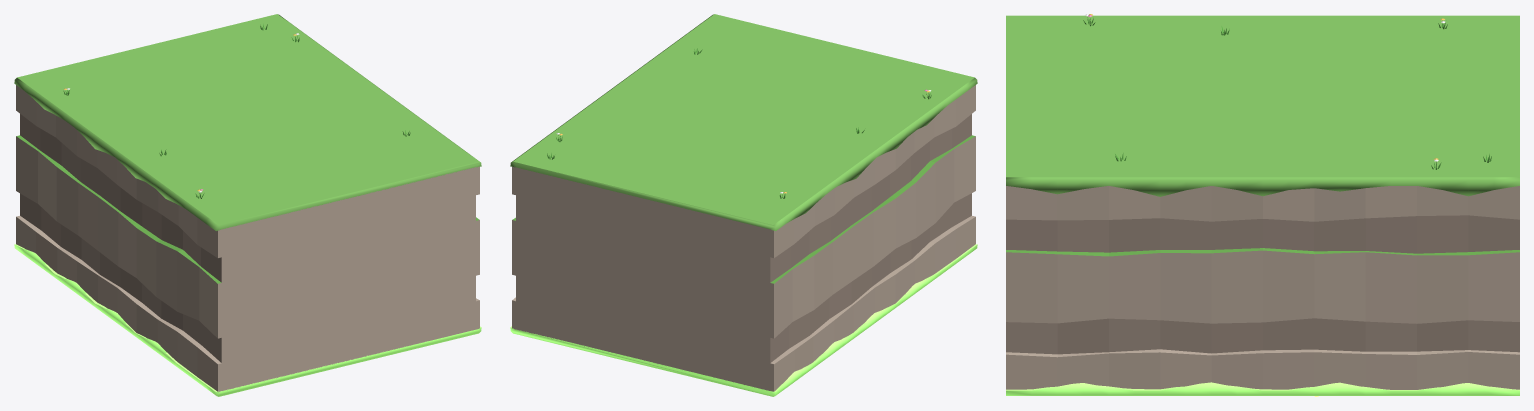
The model's file is island-flip.glb.
3 views of the same model, side by side, from view 1: azimuth 30°, elevation 25°; view 2: azimuth 150°, elevation 25°; view 3: azimuth 270°, elevation 25° (orthographic). The views are drawn at different scales.
Parts seen in each view (by area): view 1: island-flip; view 2: island-flip; view 3: island-flip.
Boxes of the visible parts, box(x1,y1,x2,y2) form: island-flip: box(14, 14, 481, 396); island-flip: box(510, 14, 977, 396); island-flip: box(1006, 14, 1519, 396).
Size of the model in its own units: 30.4 by 20.54 by 40.
